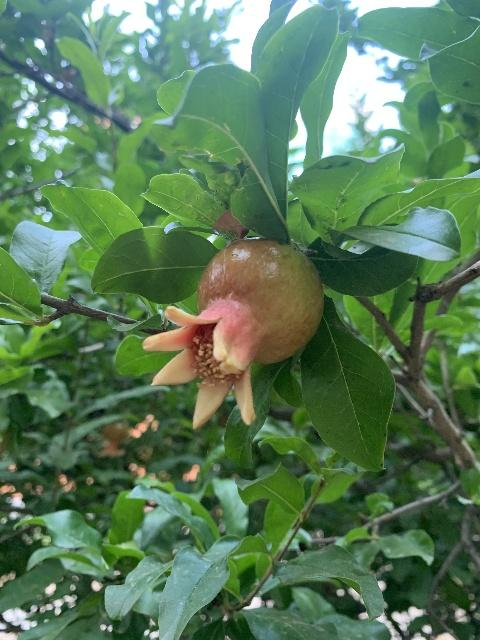early-fruit: (140, 238, 323, 432)
